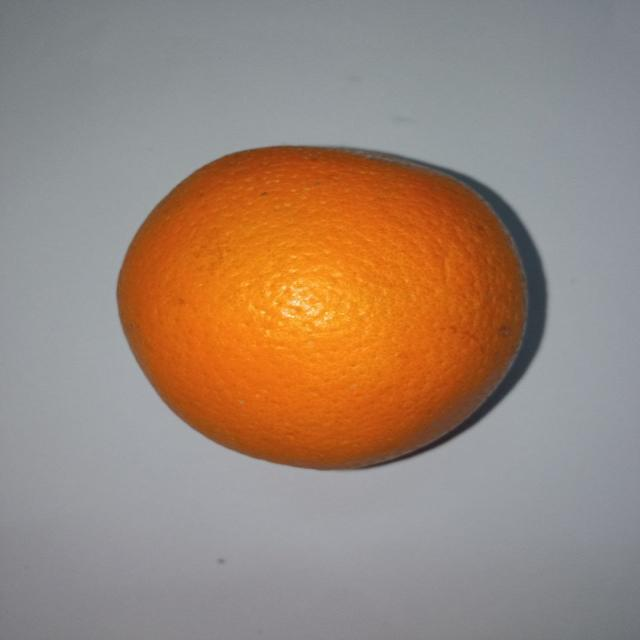fresh_orange: (115, 144, 530, 470)
